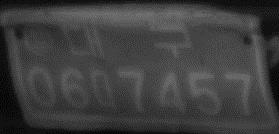0: (27, 66, 59, 110)
4: (158, 71, 188, 117)
5: (186, 70, 223, 117)
6: (58, 66, 90, 111)
7: (223, 70, 254, 118), (119, 69, 146, 113)
다: (90, 67, 120, 112)
대구_D: (61, 20, 194, 62)
영: (20, 20, 56, 59)
